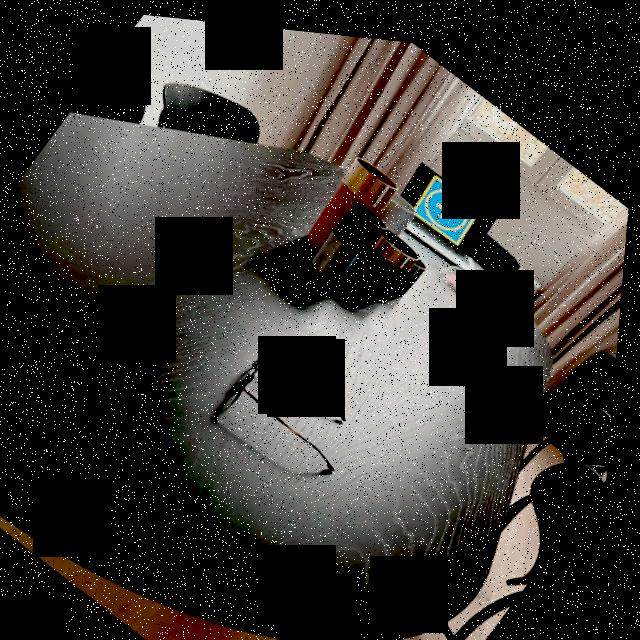Marker: (399, 153, 494, 245)
